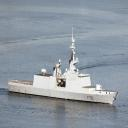Fragata: (7, 22, 121, 107)
